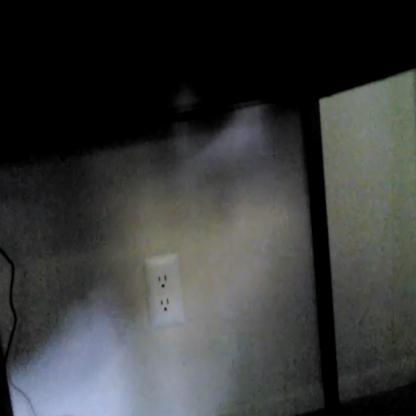OUTLET: (145, 254, 183, 326)
